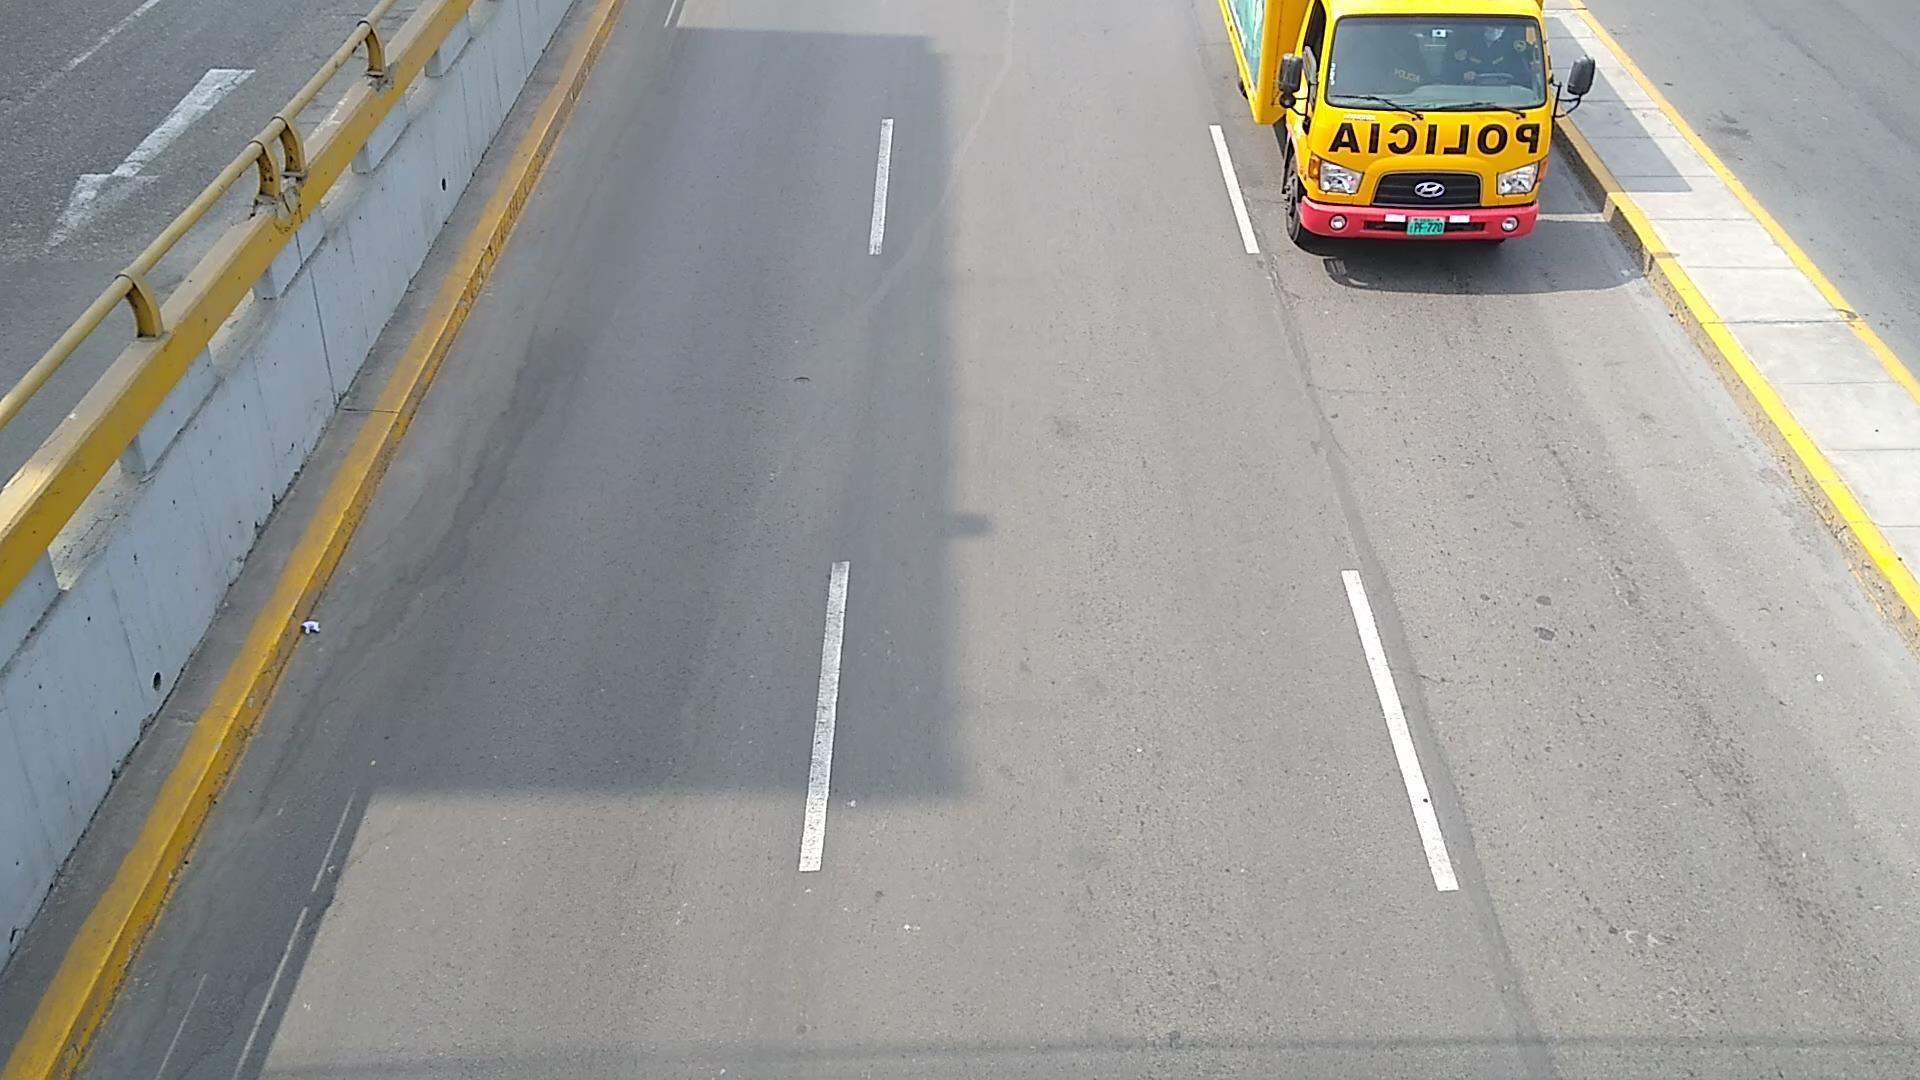lorry: (1222, 0, 1594, 244)
